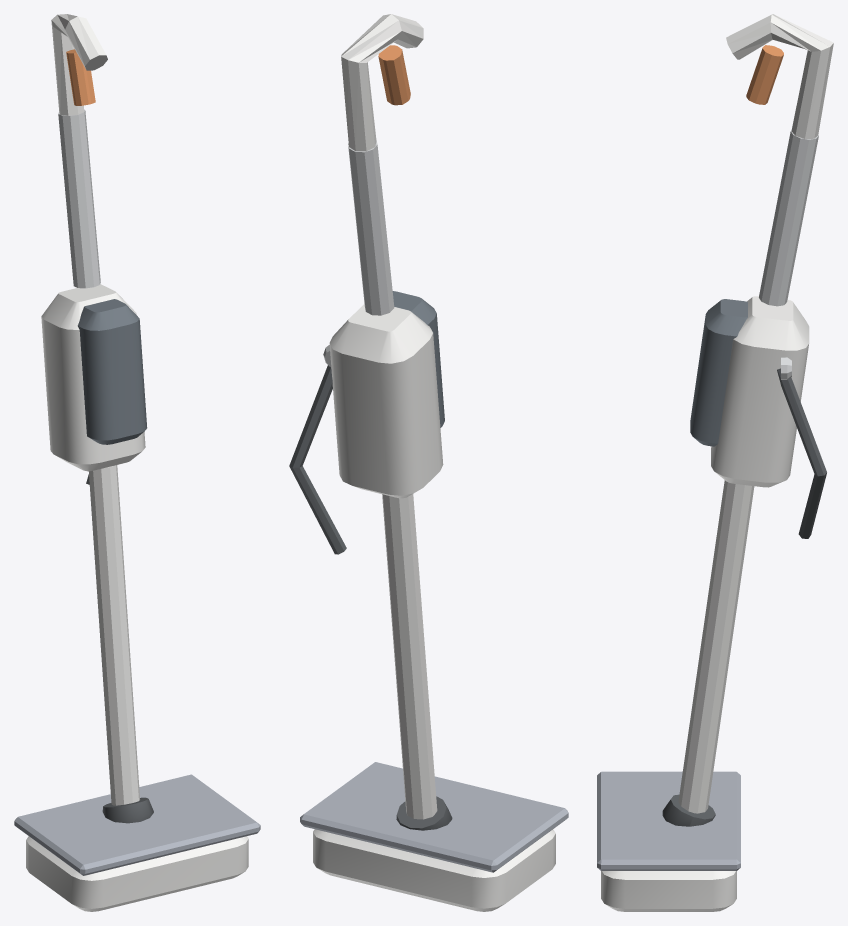
Rendered from home-appliances-and-utility-steam-mop-b2580192__14156.glb.
The picture shows the model from 3 angles, left to right: view 1: azimuth 30°, elevation 25°; view 2: azimuth 150°, elevation 25°; view 3: azimuth 270°, elevation 25°; orthographic projection. The views are drawn at different scales.
Parts seen in each view (by area): view 1: steam-mop; view 2: steam-mop; view 3: steam-mop.
Part boxes in pixels (x1=…): steam-mop: x1=14, y1=14, x2=260, y2=911; steam-mop: x1=289, y1=14, x2=568, y2=911; steam-mop: x1=597, y1=14, x2=833, y2=911.
Bounding box in the file's own units: 0.27 × 1.18 × 0.2964.
